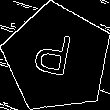P_S: (35, 30, 80, 87)
